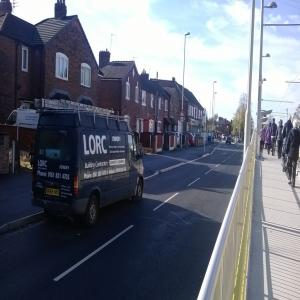Vehicle-registration-plate: (47, 188, 61, 198)
